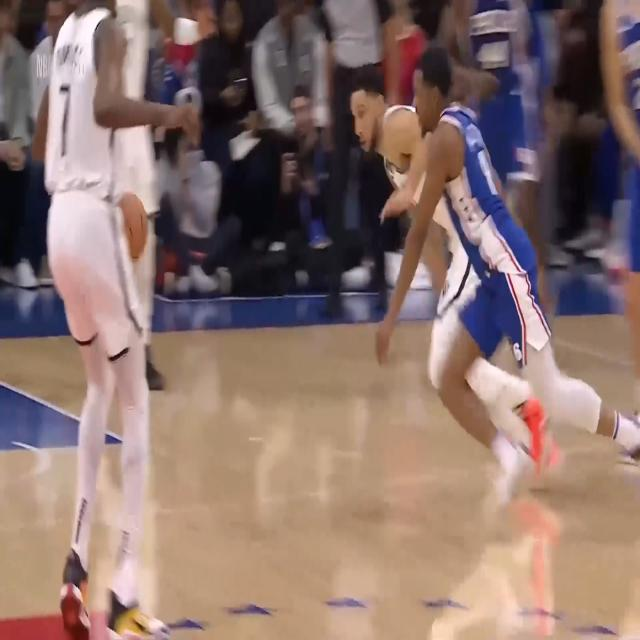Ball: (117, 191, 150, 261)
Player: (378, 46, 640, 508), (31, 1, 200, 640), (349, 60, 565, 489), (110, 0, 167, 390), (596, 1, 640, 427)
